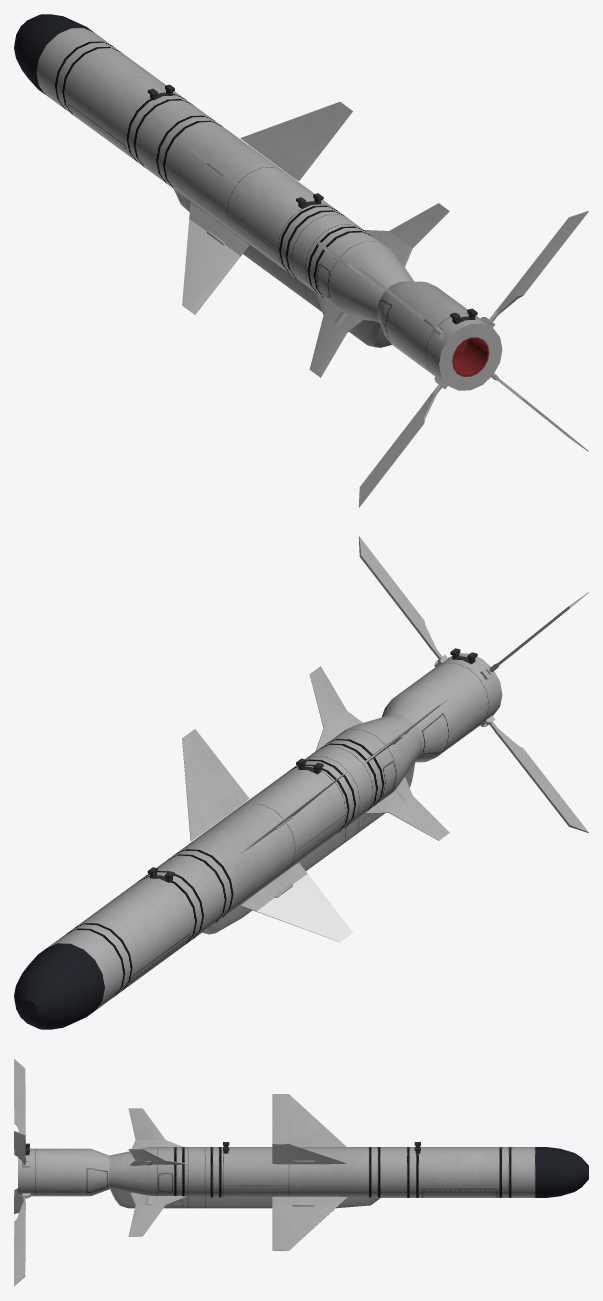
3 views of the same model, one above another, from view 1: azimuth 30°, elevation 25°; view 2: azimuth 150°, elevation 25°; view 3: azimuth 270°, elevation 25° (orthographic). The views are drawn at different scales.
Visible parts, largest first — view 1: Cube, Cube.004, Cube.015, Cube.021, Cube.007, Cube.010, Cube.030, Cube.027; view 2: Cube, Cube.004, Cube.015, Cube.021, Cube.010, Cube.007, Cube.027, Cube.030; view 3: Cube, Cube.004, Cube.024, Cube.016, Cube.008, Cube.013, Cube.025, Cube.015, Cube.028, Cube.007.
Boxes of the visible parts, x1,y1,x2,y2 form: Cube: (14, 14, 414, 347); Cube.004: (377, 281, 502, 390); Cube.015: (256, 102, 352, 169); Cube.021: (182, 219, 240, 314); Cube.007: (489, 211, 588, 324); Cube.010: (358, 384, 444, 507); Cube.030: (309, 315, 347, 377); Cube.027: (389, 203, 449, 248); Cube: (14, 711, 422, 1029); Cube.004: (382, 648, 502, 762); Cube.015: (182, 729, 240, 824); Cube.021: (256, 874, 352, 941); Cube.010: (486, 721, 588, 832); Cube.007: (358, 536, 441, 662); Cube.027: (309, 666, 347, 728); Cube.030: (389, 795, 449, 840); Cube: (109, 1139, 588, 1208); Cube.004: (18, 1143, 109, 1198); Cube.024: (272, 1094, 337, 1139); Cube.016: (272, 1205, 337, 1250); Cube.008: (14, 1196, 26, 1285); Cube.013: (14, 1059, 25, 1141); Cube.025: (128, 1204, 165, 1236); Cube.015: (272, 1143, 338, 1160); Cube.028: (128, 1108, 165, 1139); Cube.007: (14, 1131, 26, 1165).
Bounding box in the file's own units: 1.47 × 1.47 × 4.91.
Materials: 1 (1 with a texture image).
